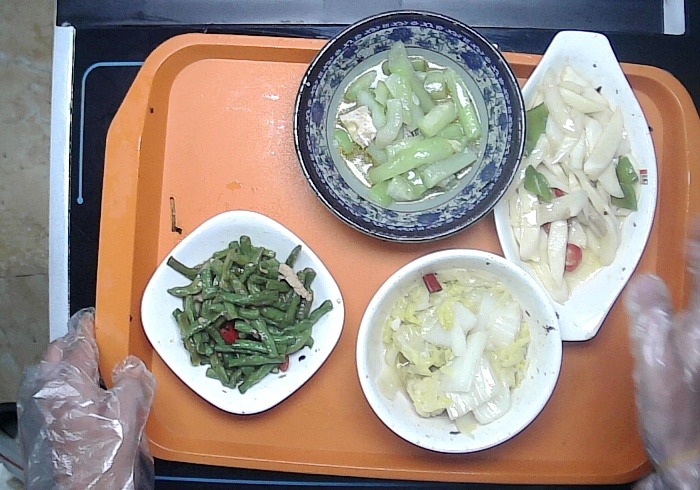ZNLD-Qing_Hua_Wan: (289, 3, 534, 256)
ZNLD-Si_Fang_Wan: (136, 202, 356, 422)
ZNLD-Tang_Wan: (354, 239, 573, 462)
ZNLD-Yu_Pan: (483, 22, 667, 350)
